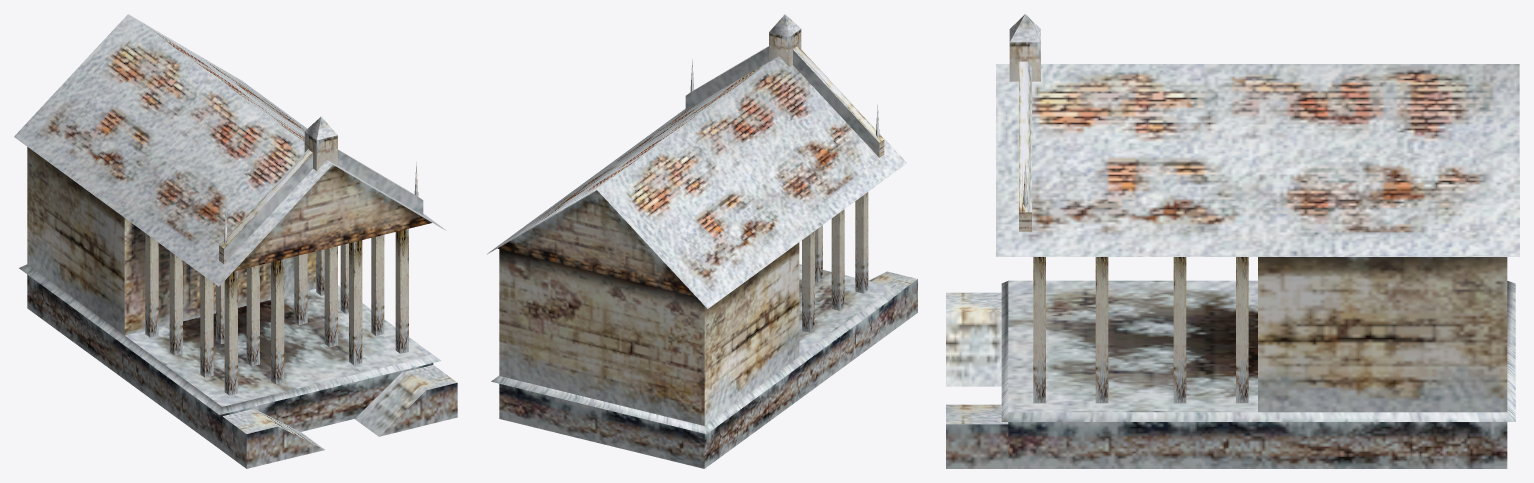
The model's file is Civilian - Civilian Building - Crypt 01 - Snow - CBOldmslm_s.glb.
3 views of the same model, side by side, from view 1: azimuth 30°, elevation 25°; view 2: azimuth 150°, elevation 25°; view 3: azimuth 270°, elevation 25° (orthographic). The views are drawn at different scales.
Visible parts, largest first — view 1: CBOLDMSLM_S; view 2: CBOLDMSLM_S; view 3: CBOLDMSLM_S.
Boxes of the visible parts, bbox=[...] form: CBOLDMSLM_S: bbox=[14, 14, 457, 468]; CBOLDMSLM_S: bbox=[487, 14, 917, 468]; CBOLDMSLM_S: bbox=[946, 14, 1519, 468].
Bounding box in the file's own units: 32.42 × 41.37 × 55.25.
Materials: 1 (1 with a texture image).
